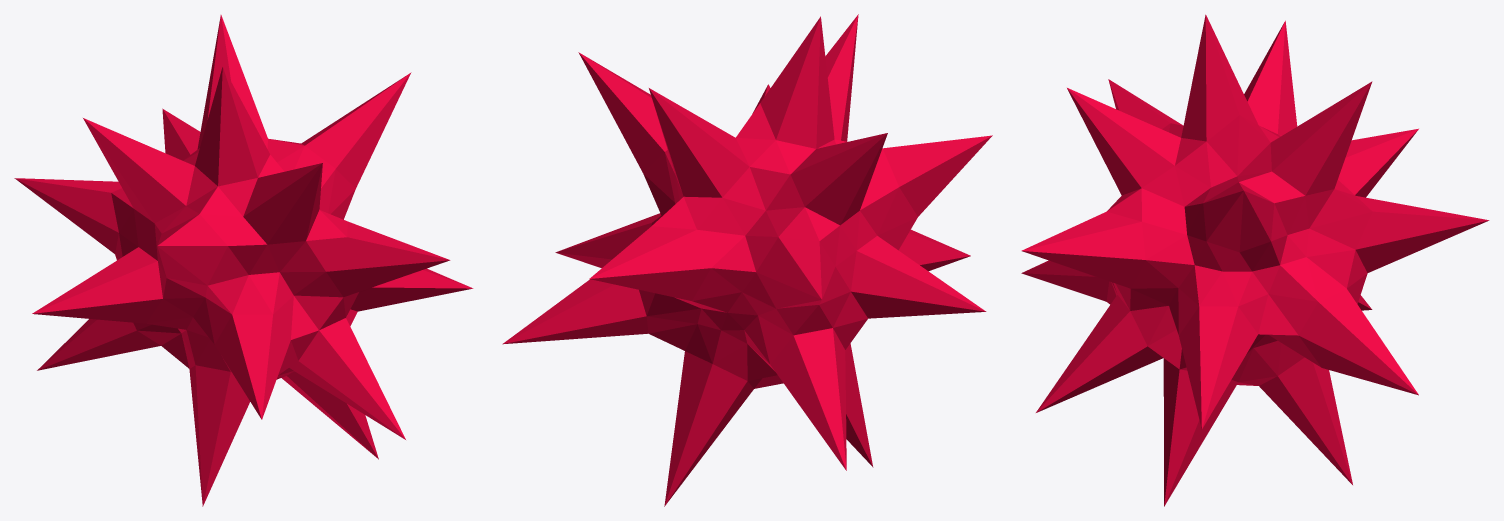
The model's file is enemy.glb.
3 renders of one model, left to right at view 1: azimuth 30°, elevation 25°; view 2: azimuth 150°, elevation 25°; view 3: azimuth 270°, elevation 25°, orthographic. The views are drawn at different scales.
Visible parts, largest first — view 1: Body; view 2: Body; view 3: Body.
Part boxes in pixels (x1,y1,x2,y2): Body: (14, 15, 473, 506); Body: (502, 14, 992, 506); Body: (1021, 14, 1489, 506).
Bounding box in the file's own units: 2.5 × 2.39 × 2.33.
